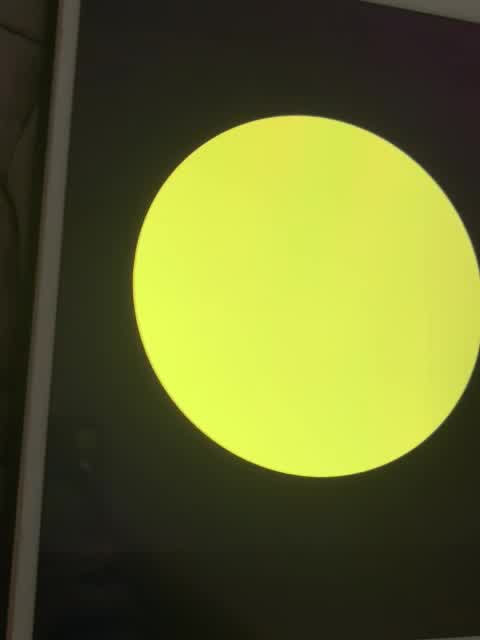left: (124, 100, 480, 488)
